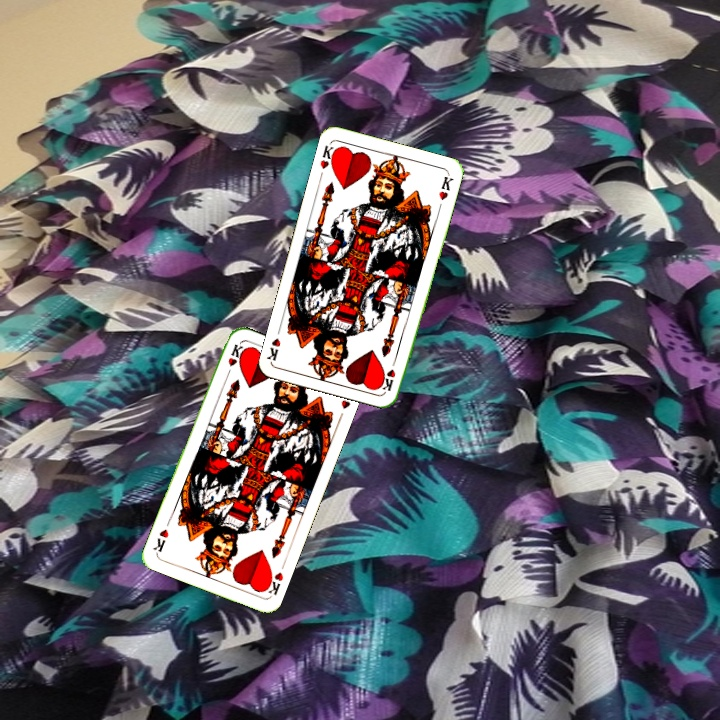HK: (222, 340, 245, 379), (379, 353, 399, 394), (260, 568, 286, 598), (316, 140, 340, 172)
